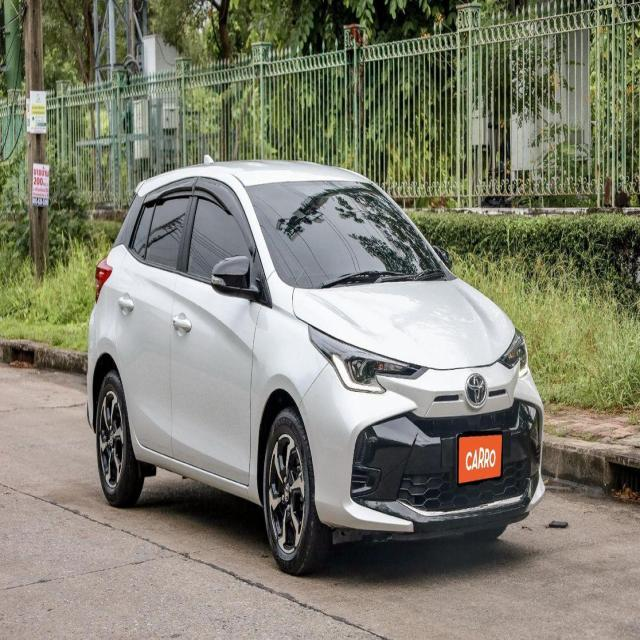Hatchback: (86, 160, 545, 578)
